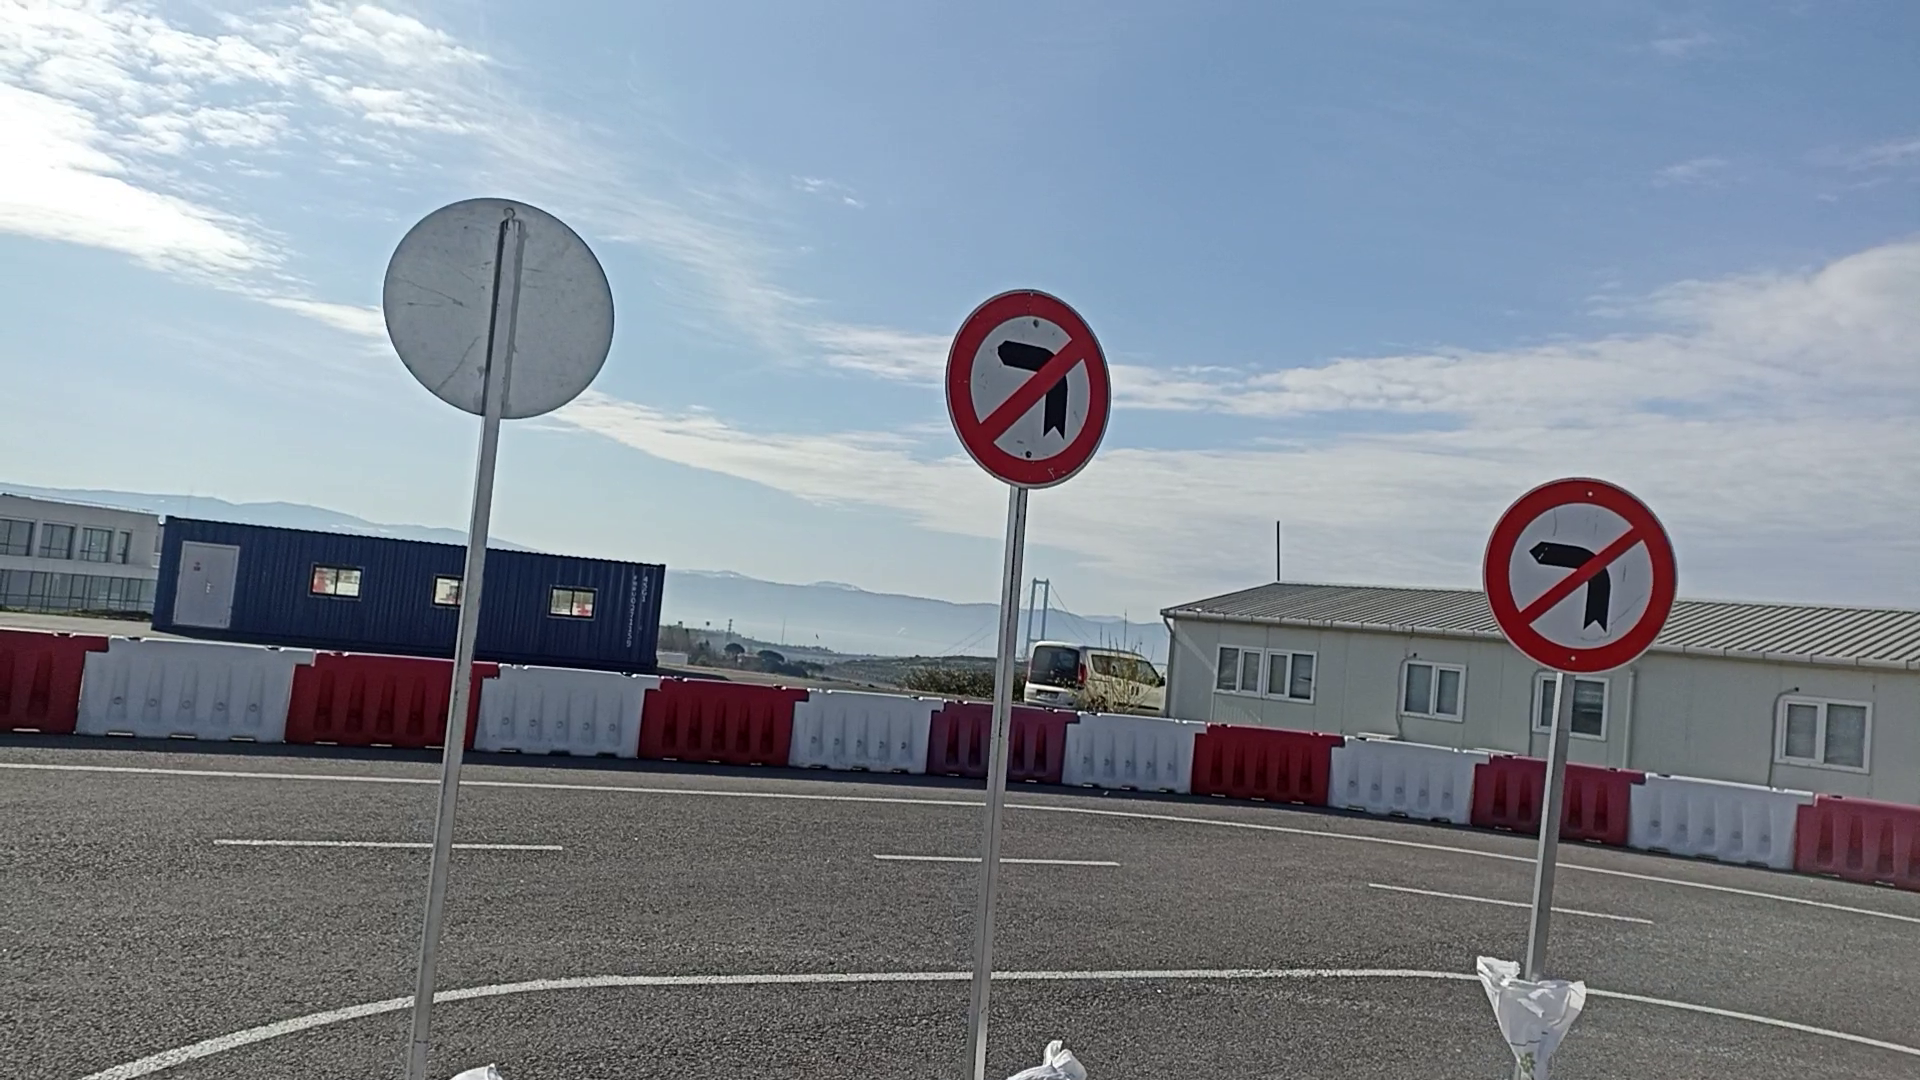noleft: (1480, 473, 1681, 679), (943, 287, 1116, 491)
